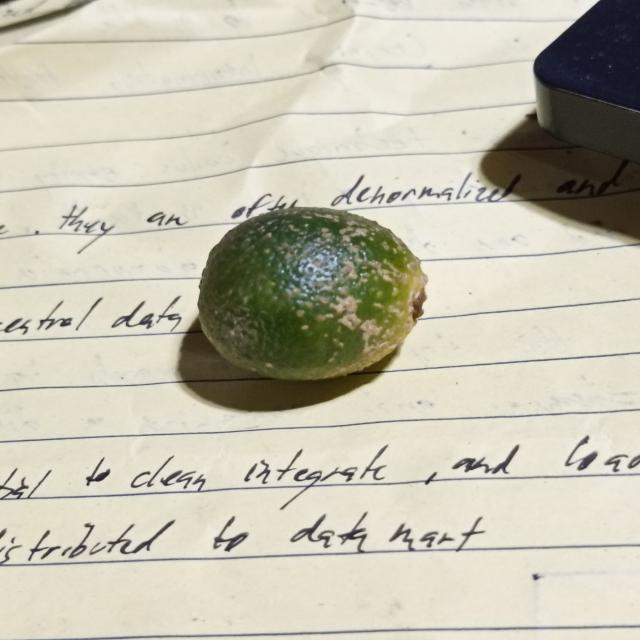scab: (194, 202, 428, 390)
